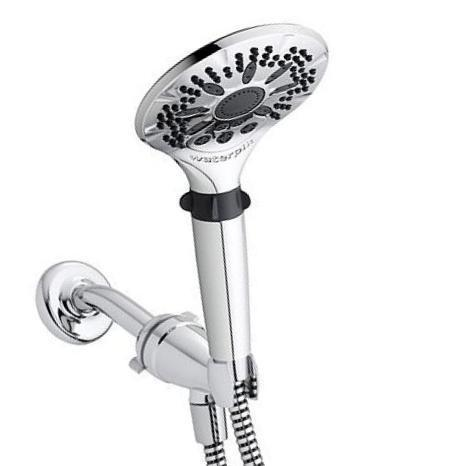Ducha: (40, 30, 333, 465)
